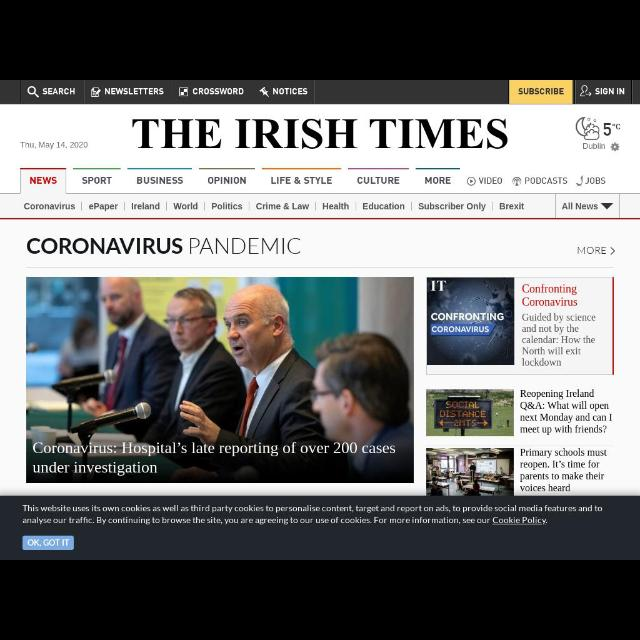icon: (577, 117, 601, 141), (26, 86, 40, 98), (580, 84, 592, 98), (90, 86, 100, 98), (600, 202, 614, 210), (179, 86, 189, 96), (259, 86, 269, 96), (467, 174, 475, 186), (611, 142, 619, 152), (512, 178, 522, 186), (576, 177, 584, 187), (609, 246, 615, 256)
image: (26, 277, 412, 481), (428, 278, 514, 364), (426, 390, 514, 436), (428, 448, 512, 496)
multitab: (1, 194, 639, 218)
spinner: (557, 194, 621, 218)
text: (22, 502, 604, 526), (132, 116, 508, 152), (27, 236, 303, 256), (520, 388, 612, 436), (520, 312, 598, 368), (522, 448, 606, 492), (524, 284, 578, 306), (419, 202, 487, 212), (19, 140, 90, 148), (270, 178, 334, 185), (256, 201, 310, 209), (23, 203, 76, 211), (358, 175, 400, 185), (193, 86, 243, 94), (516, 87, 566, 95), (207, 176, 247, 186), (28, 539, 68, 549), (136, 176, 182, 184), (104, 88, 164, 94), (594, 88, 626, 99), (524, 177, 568, 185), (42, 87, 76, 97), (363, 202, 405, 210), (273, 86, 307, 95), (88, 202, 118, 212), (576, 246, 606, 256), (30, 177, 59, 187), (82, 176, 111, 186), (603, 122, 621, 138), (562, 202, 598, 210), (130, 202, 162, 210), (210, 202, 242, 210), (424, 177, 452, 186), (478, 175, 502, 185), (498, 203, 526, 211), (322, 202, 348, 210), (582, 142, 606, 150), (174, 203, 198, 211), (586, 177, 604, 185)
textbutton: (509, 82, 573, 105), (22, 536, 74, 550)
